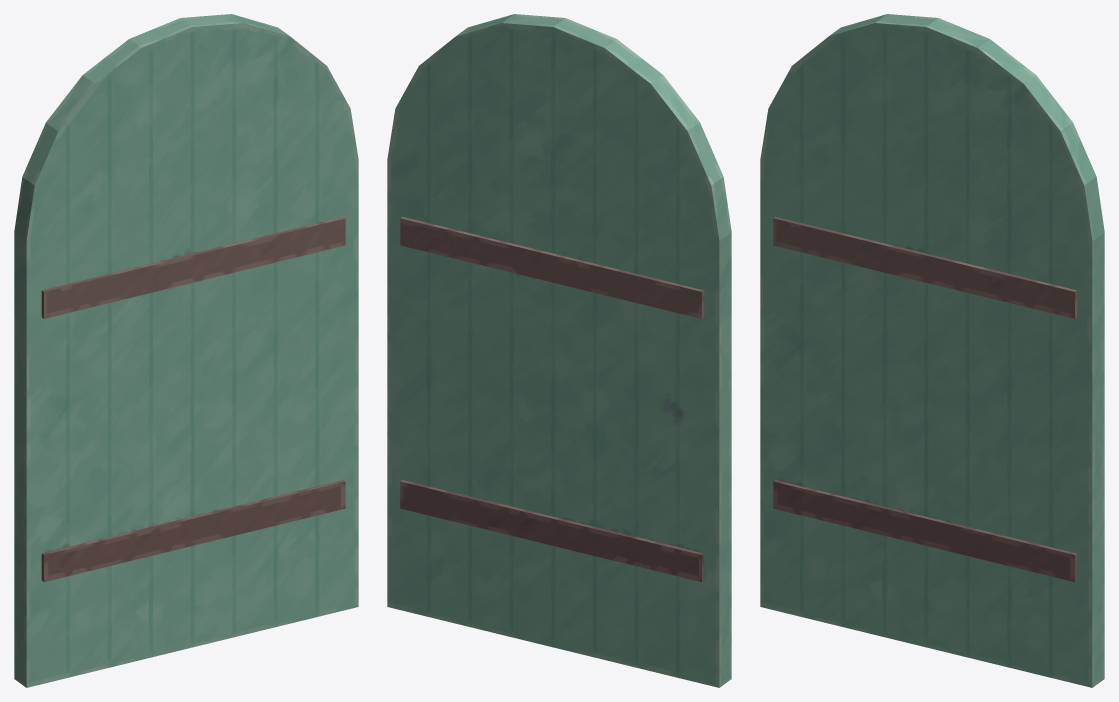
Rendered from door2_teal_low.fbx.
3 views of the same model, side by side, from view 1: azimuth 30°, elevation 25°; view 2: azimuth 150°, elevation 25°; view 3: azimuth 330°, elevation 25° (orthographic).
Visible parts, largest first — view 1: door2_teal; view 2: door2_teal; view 3: door2_teal.
Boxes of the visible parts, x1,y1,x2,y2 form: door2_teal: (14, 14, 358, 687); door2_teal: (387, 14, 731, 687); door2_teal: (760, 14, 1104, 687).
Size of the model in its own units: 4.36 by 7.78 by 0.38.
1 material, 1 textured.
